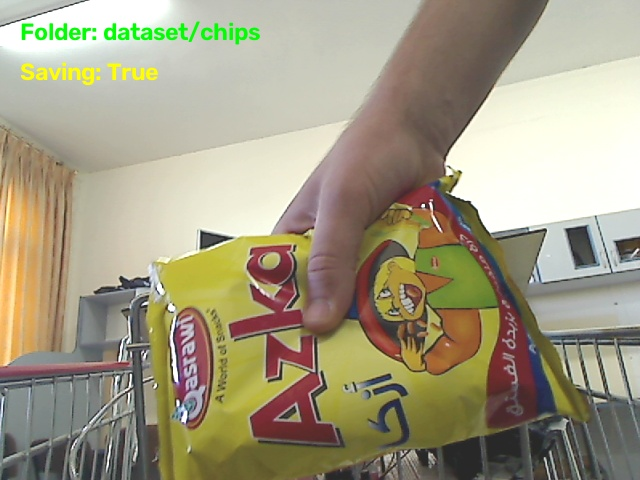chips: (148, 177, 587, 479)
